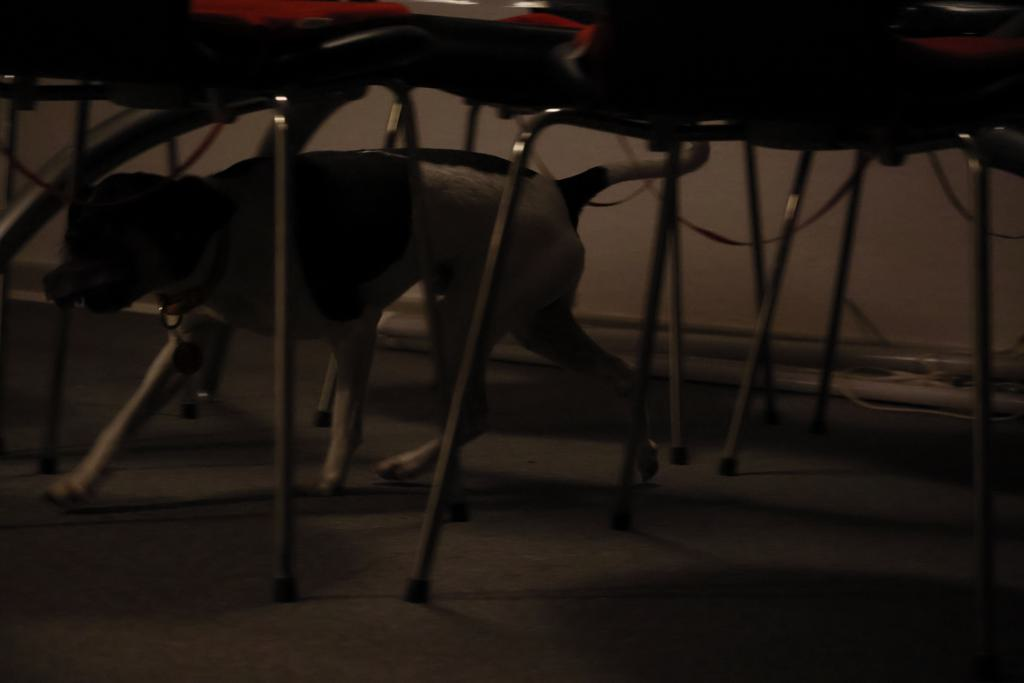Dog: (25, 131, 725, 512)
